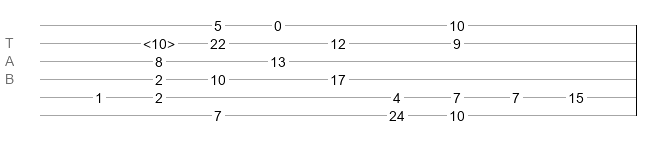0: (274, 18, 282, 28)
1: (95, 90, 103, 100)
10: (210, 72, 226, 82), (449, 108, 465, 118), (449, 18, 465, 28)
12: (330, 36, 346, 46)
13: (270, 54, 286, 64)
15: (568, 90, 584, 100)
17: (330, 72, 346, 82)
2: (155, 90, 163, 100), (155, 72, 163, 82)
22: (210, 36, 226, 46)
24: (389, 108, 405, 118)
4: (393, 90, 401, 100)
5: (214, 18, 222, 28)
7: (214, 108, 222, 118), (453, 90, 461, 100), (512, 90, 520, 100)
8: (155, 54, 163, 64)
9: (453, 36, 461, 46)
harmonic: (143, 36, 175, 46)
